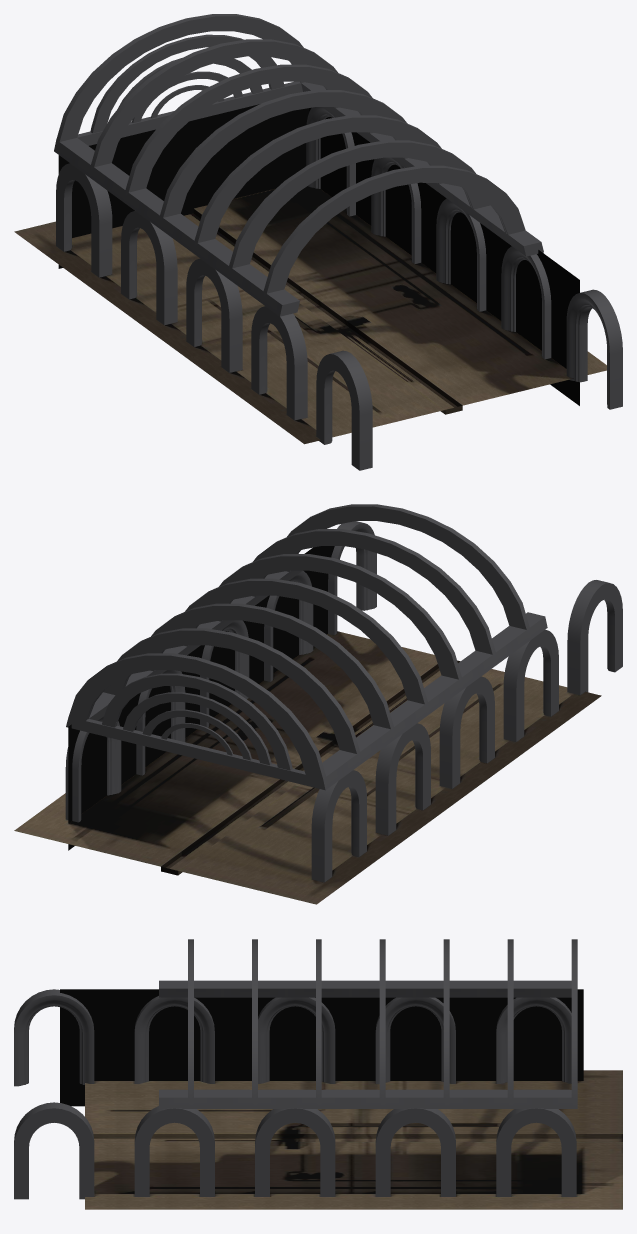
File: hall.glb
3 views of the same model, one above another, from view 1: azimuth 30°, elevation 25°; view 2: azimuth 150°, elevation 25°; view 3: azimuth 270°, elevation 25° (orthographic). The views are drawn at different scales.
Visible parts, largest first — view 1: roof, floor, columns, wall; view 2: roof, floor, columns, wall; view 3: floor, wall, columns, roof.
Part boxes in pixels (<box>): roof: <box>54,14,543,316</box>; floor: <box>14,186,606,444</box>; columns: <box>56,107,622,470</box>; wall: <box>58,104,579,405</box>; roof: <box>66,504,547,790</box>; floor: <box>14,631,601,904</box>; columns: <box>65,521,622,882</box>; wall: <box>68,546,334,850</box>; floor: <box>85,1070,622,1209</box>; wall: <box>60,989,583,1106</box>; columns: <box>14,989,576,1199</box>; roof: <box>159,939,577,1108</box>.
Size of the model in its own units: 22.25 by 15.39 by 41.16.
3 materials, 1 textured.
